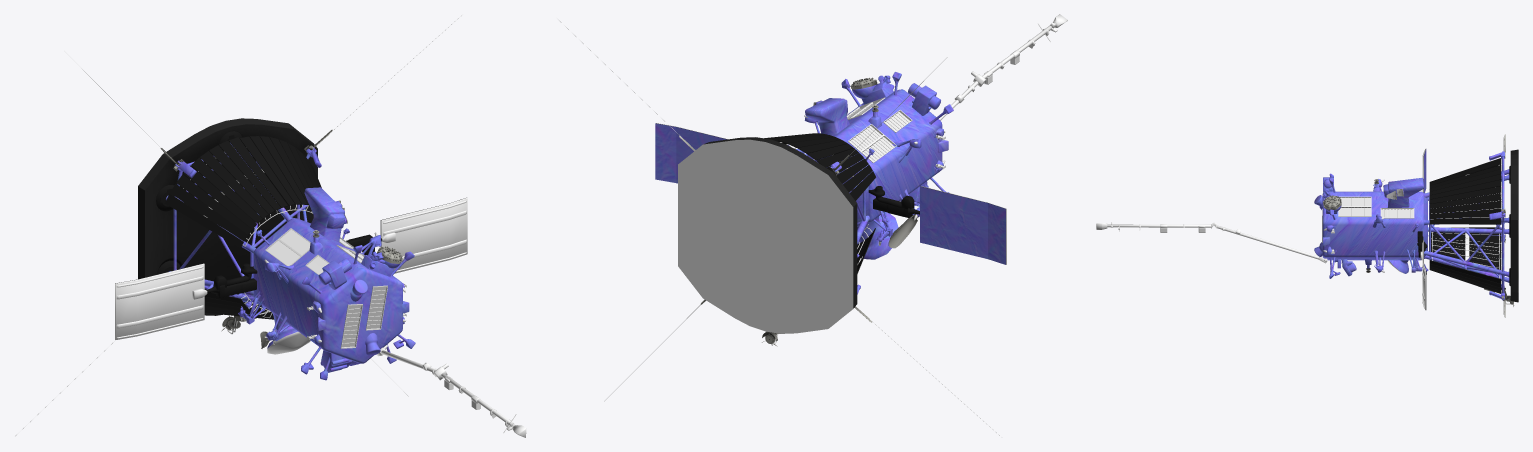
The model's file is probepsp.glb.
3 renders of one model, left to right at view 1: azimuth 30°, elevation 25°; view 2: azimuth 150°, elevation 25°; view 3: azimuth 270°, elevation 25°, orthographic. The views are drawn at different scales.
Visible parts, largest first — view 1: BUS, Instruments, CoolingSystem, solarWing_LeftBacking, solarWing_RightBacking, vents, solarArray_arms, boom, heatShield_Mounting, HGA; view 2: Instruments, BUS, CoolingSystem, vents, boom, solarArray_arms; view 3: BUS, CoolingSystem, Instruments, vents, boom, CoolingSystem_frame.
Part boxes in pixels (left/top/right/bottom): BUS: left=165, top=143, right=415, bottom=380; Instruments: left=115, top=118, right=466, bottom=348; CoolingSystem: left=165, top=136, right=321, bottom=319; solarWing_LeftBacking: left=115, top=263, right=204, bottom=339; solarWing_RightBacking: left=381, top=198, right=467, bottom=273; vents: left=265, top=228, right=387, bottom=348; solarArray_arms: left=192, top=232, right=395, bottom=299; boom: left=377, top=345, right=526, bottom=437; heatShield_Mounting: left=156, top=131, right=242, bottom=294; HGA: left=267, top=331, right=310, bottom=354; Instruments: left=655, top=77, right=1006, bottom=346; BUS: left=788, top=72, right=953, bottom=294; CoolingSystem: left=764, top=133, right=875, bottom=273; vents: left=846, top=97, right=912, bottom=162; boom: left=939, top=14, right=1067, bottom=120; solarArray_arms: left=868, top=186, right=919, bottom=217; BUS: left=1314, top=151, right=1509, bottom=300; CoolingSystem: left=1429, top=158, right=1501, bottom=293; Instruments: left=1323, top=134, right=1518, bottom=317; vents: left=1322, top=196, right=1414, bottom=242; boom: left=1096, top=222, right=1327, bottom=263; CoolingSystem_frame: left=1429, top=165, right=1511, bottom=304.
Bounding box in the file's own units: 5.75 × 5.26 × 6.61.
7 materials, 2 textured.
